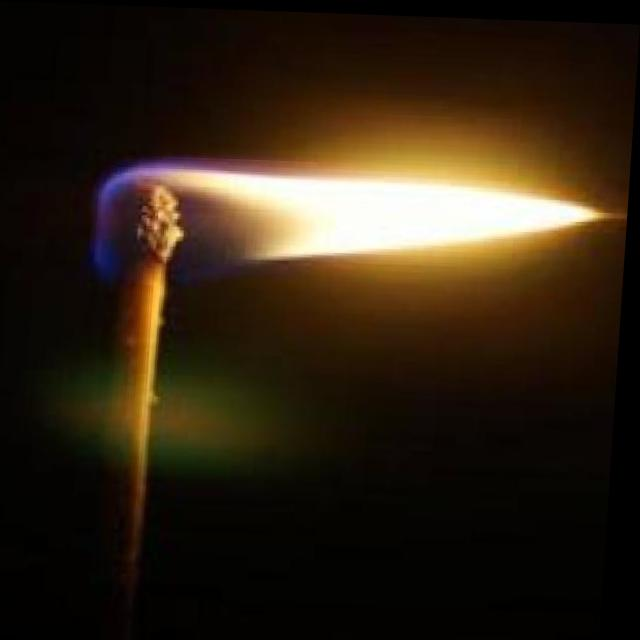Fire: (93, 162, 609, 270)
